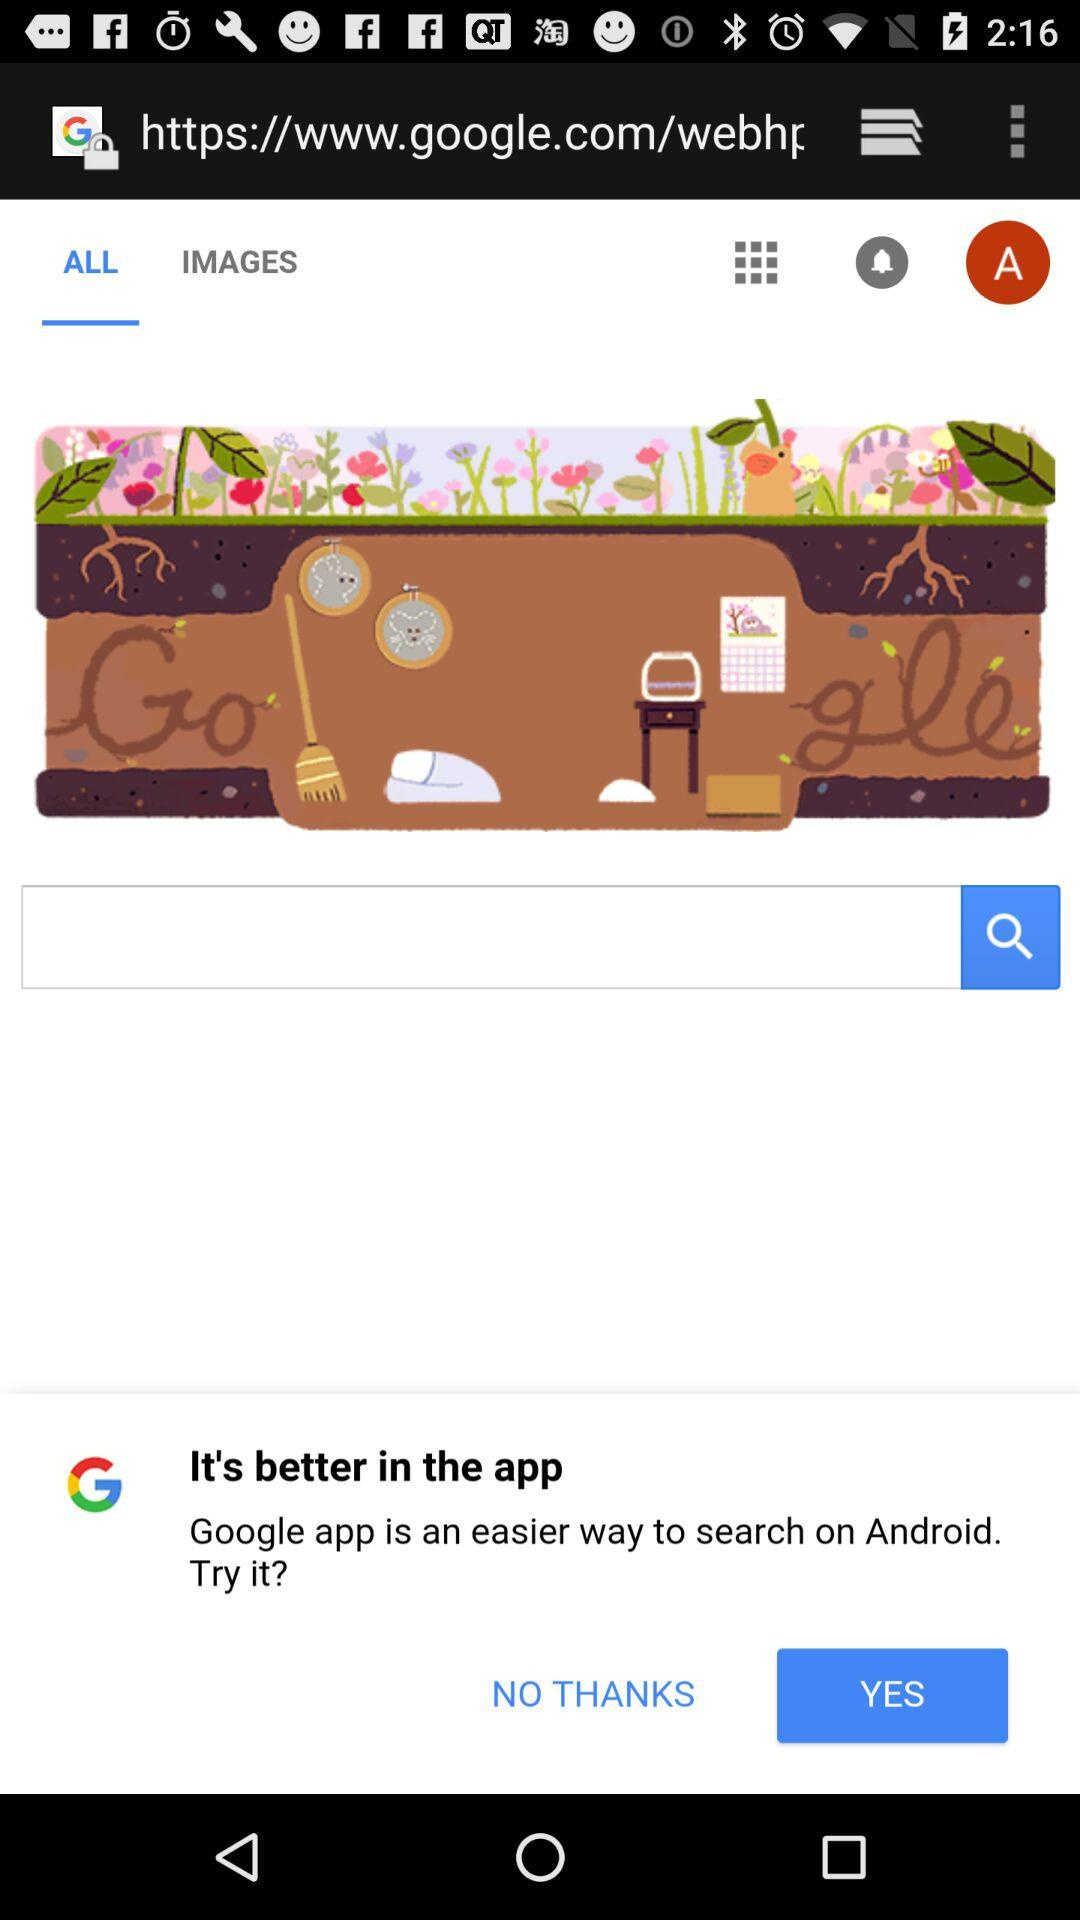Button: (5, 1668, 539, 1793), (541, 1668, 1075, 1793)
SpecialButton: (828, 63, 953, 200), (953, 63, 1075, 200)
TextView: (5, 1502, 1075, 1582), (84, 1602, 458, 1652)
